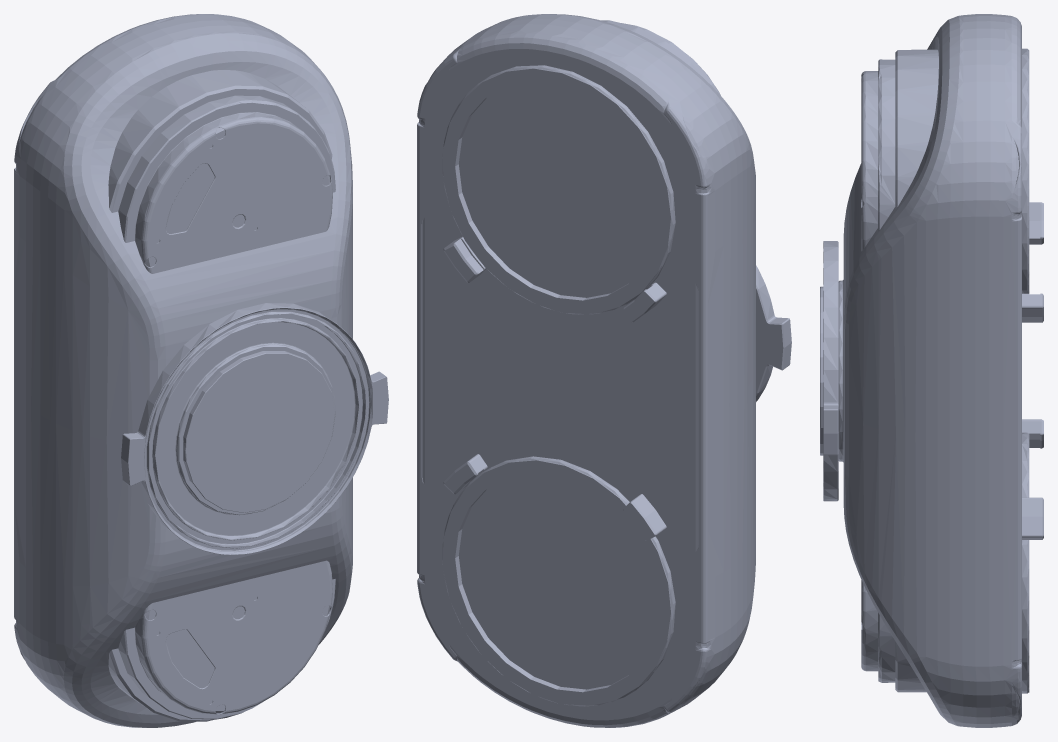
The model's file is pelvis.obj.
The picture shows the model from 3 angles, left to right: view 1: azimuth 30°, elevation 25°; view 2: azimuth 150°, elevation 25°; view 3: azimuth 270°, elevation 25°; orthographic projection.
Visible parts, largest first — view 1: pelvis_001-mesh; view 2: pelvis_001-mesh; view 3: pelvis_001-mesh.
Boxes of the visible parts, x1,y1,x2,y2 form: pelvis_001-mesh: (14,14,388,727); pelvis_001-mesh: (417,14,791,727); pelvis_001-mesh: (820,14,1043,727).
Size of the model in its own units: 0.138 by 0.3068 by 0.0924.
